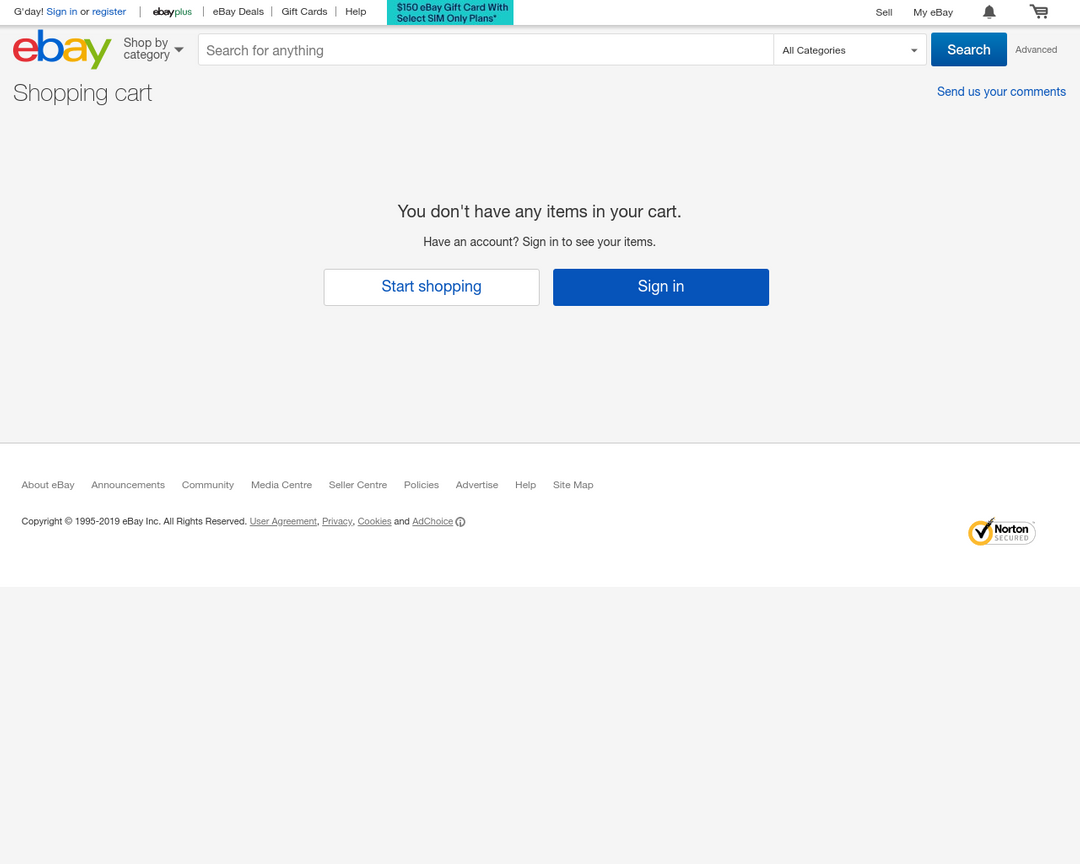Ebay: (9, 27, 120, 76)
